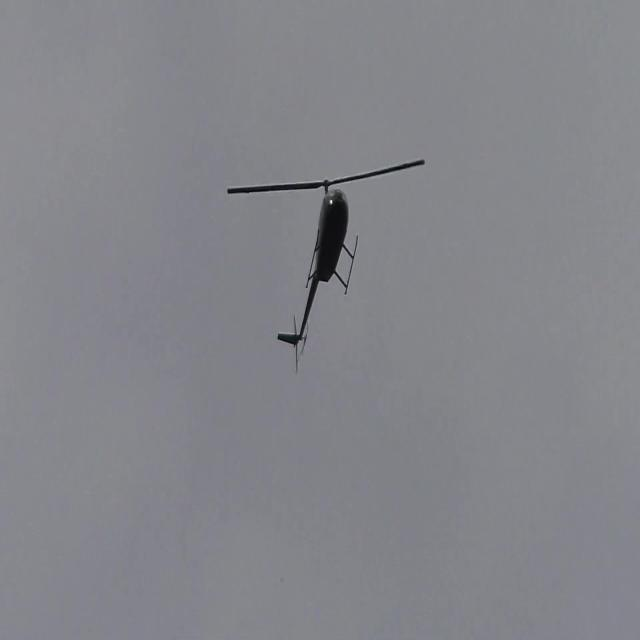CIV_HELO: (278, 179, 359, 349)
